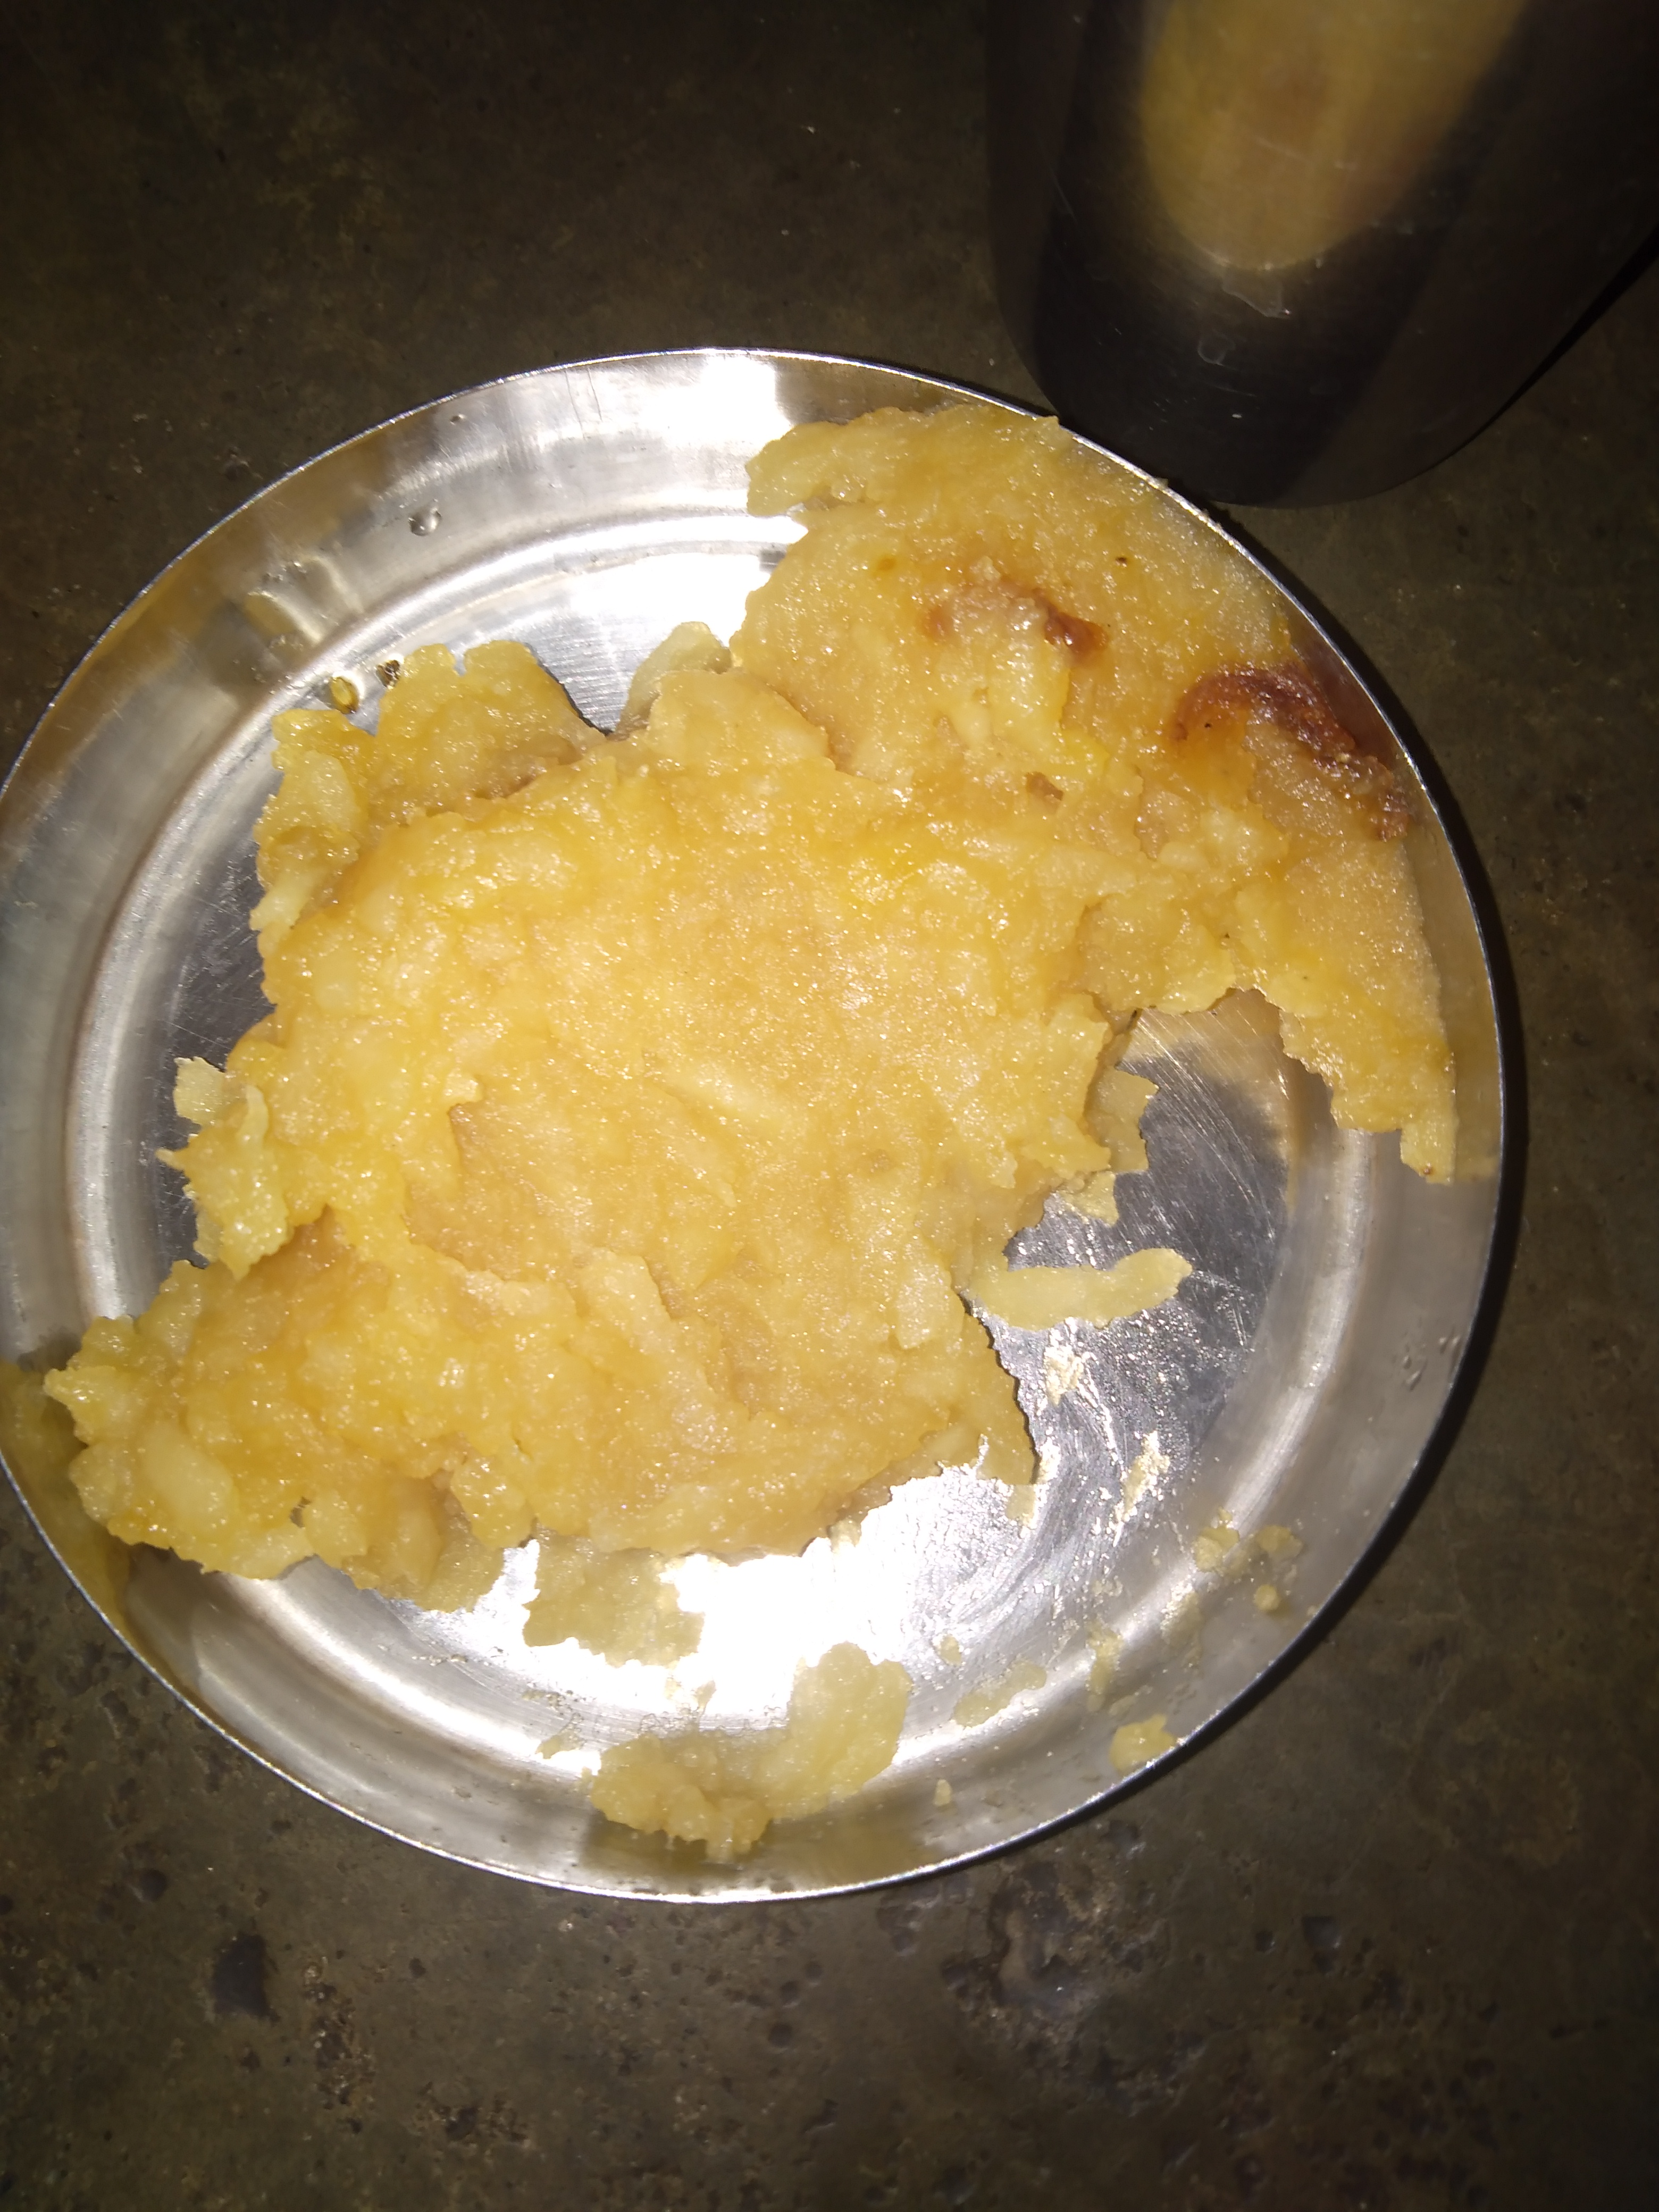food: (37, 385, 1473, 1872)
